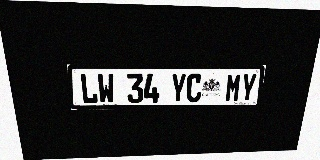3: (127, 73, 143, 103)
4: (144, 73, 159, 103)
C: (186, 73, 202, 102)
L: (79, 73, 98, 104)
M: (225, 73, 242, 102)
W: (97, 73, 115, 104)
Y: (239, 73, 257, 102), (170, 73, 187, 103)
